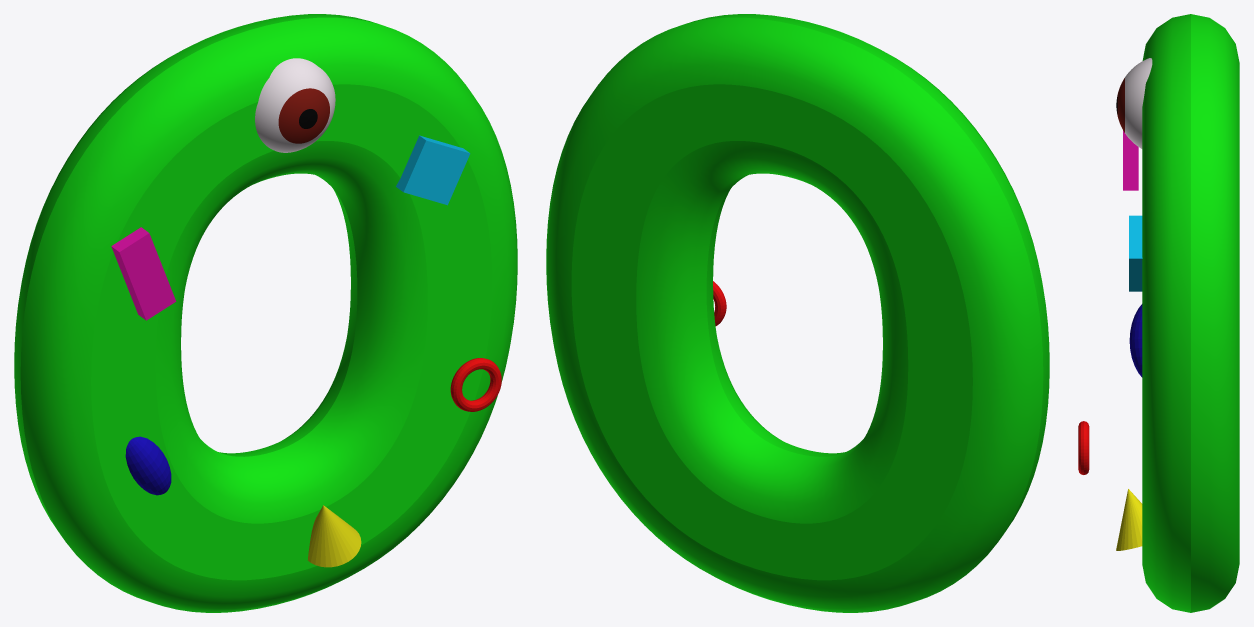
The model's file is o_green.fbx.
3 renders of one model, left to right at view 1: azimuth 30°, elevation 25°; view 2: azimuth 150°, elevation 25°; view 3: azimuth 270°, elevation 25°, orthographic. The views are drawn at different scales.
Parts seen in each view (by area): view 1: Text, Sphere, Cube.001, Cube, Cone, Sphere.002, Torus; view 2: Text; view 3: Text, Sphere, Cone, Cube, Cube.001, Sphere.002, Torus.
Part boxes in pixels (x1,y1,x2,y2): Text: (14,14,517,612); Sphere: (255,58,335,152); Cube.001: (111,227,176,320); Cube: (396,135,470,205); Cone: (307,505,361,567); Sphere.002: (125,436,171,495); Torus: (450,358,501,411); Text: (546,14,1049,612); Text: (1142,14,1239,612); Sphere: (1116,58,1152,148); Cone: (1116,489,1142,550); Cube: (1129,215,1142,291); Cube.001: (1123,130,1138,190); Sphere.002: (1129,304,1142,377); Torus: (1078,421,1089,474).
Bounding box in the file's own units: 109 × 122 × 32.68.
